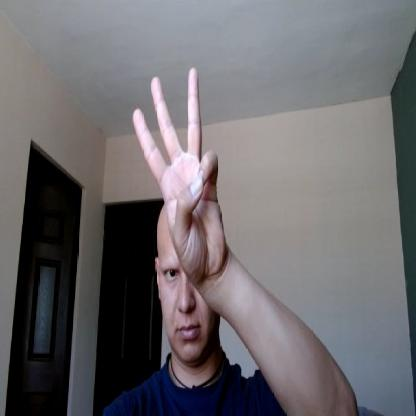W: (129, 66, 226, 276)
